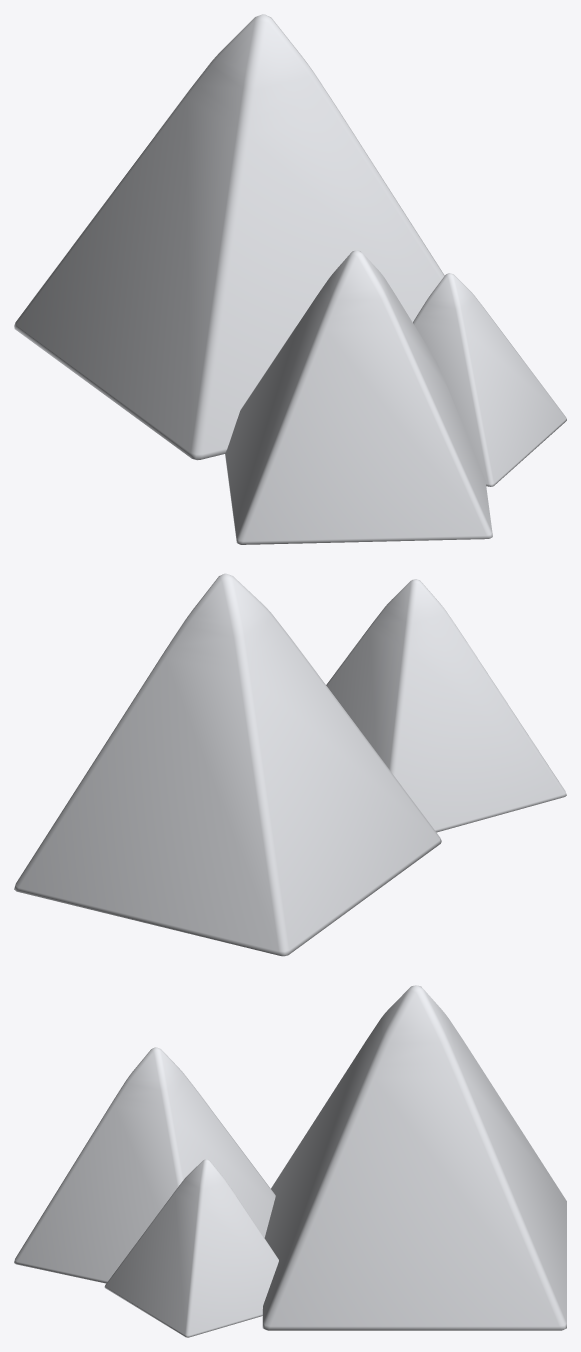
Rendered from bush-48_col.fbx.
3 views of the same model, one above another, from view 1: azimuth 30°, elevation 25°; view 2: azimuth 150°, elevation 25°; view 3: azimuth 270°, elevation 25° (orthographic). The views are drawn at different scales.
Visible parts, largest first — view 1: bush-48.col; view 2: bush-48.col; view 3: bush-48.col.
Boxes of the visible parts, bbox=[...] form: bush-48.col: bbox=[14, 14, 566, 544]; bush-48.col: bbox=[14, 573, 566, 956]; bush-48.col: bbox=[14, 985, 566, 1337].
Size of the model in its own units: 0.1571 by 0.138 by 0.2415.
1 material, 1 textured.
